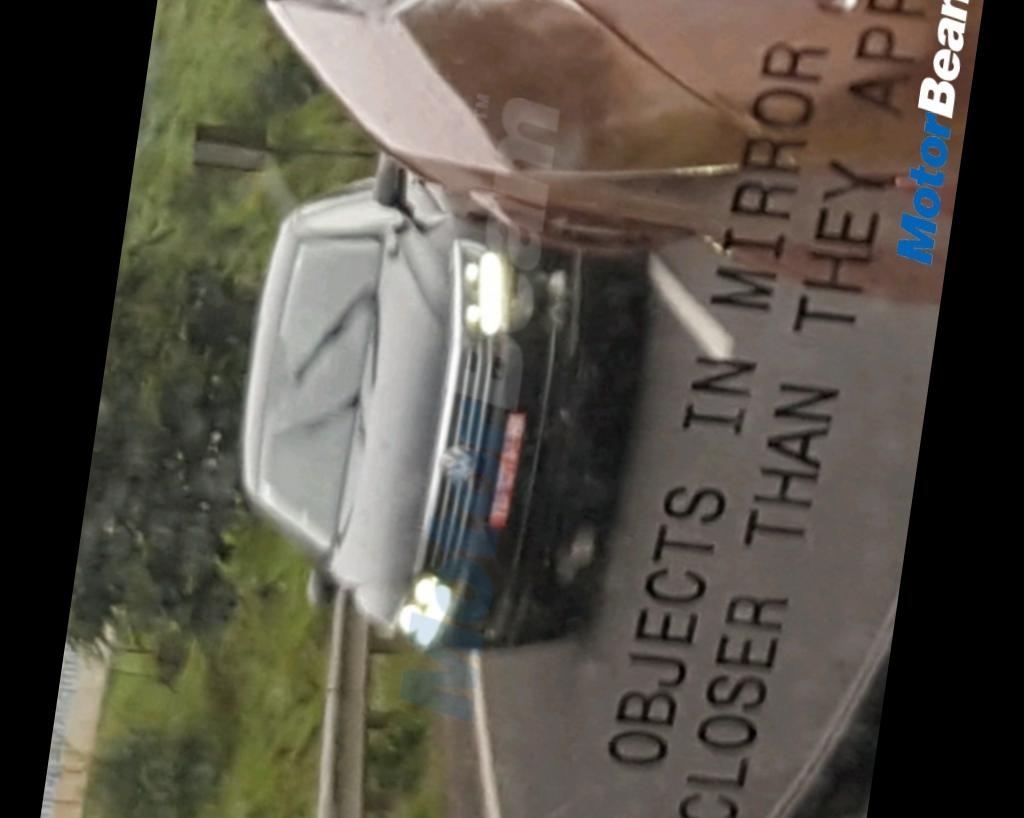plate: (481, 397, 546, 542)
